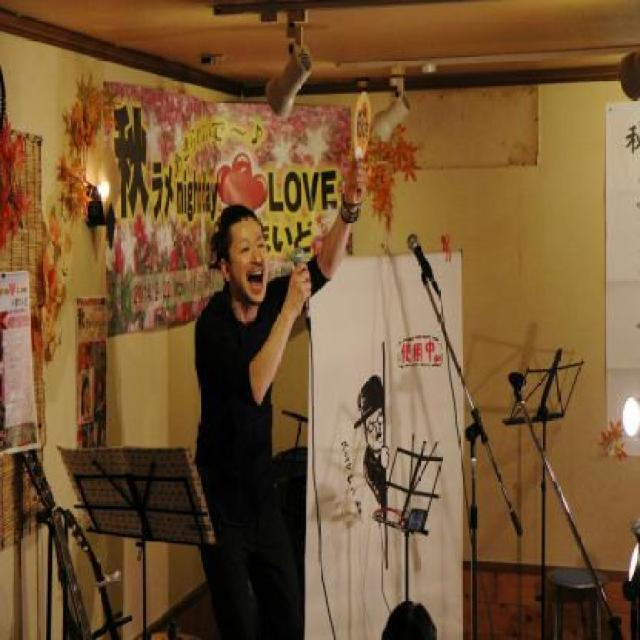Person: (189, 156, 366, 639), (348, 374, 390, 538), (383, 594, 437, 638)
